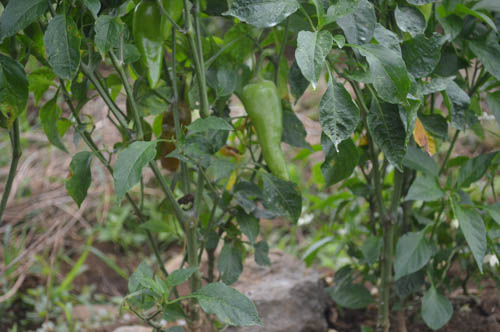ChiliPepper: (245, 82, 289, 184), (132, 4, 168, 94)
